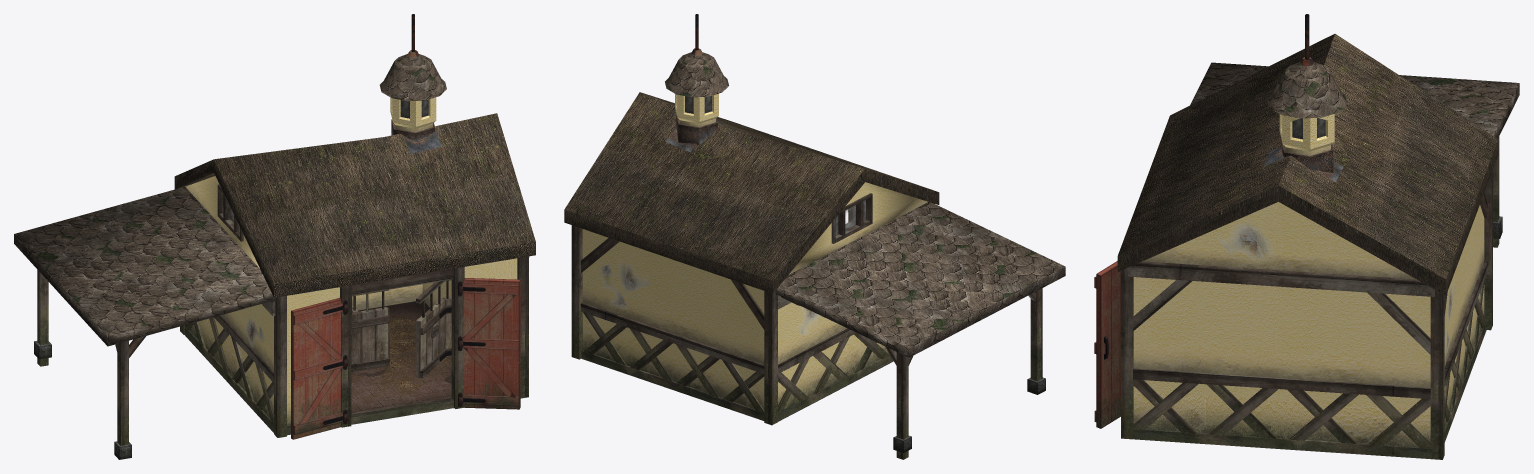
File: bldg_02_timber_barn.glb
3 views of the same model, side by side, from view 1: azimuth 30°, elevation 25°; view 2: azimuth 150°, elevation 25°; view 3: azimuth 270°, elevation 25° (orthographic). The views are drawn at different scales.
Parts seen in each view (by area): view 1: TimberBarn; view 2: TimberBarn; view 3: TimberBarn.
Part boxes in pixels (bbox=[...]): TimberBarn: bbox=[14, 14, 535, 459]; TimberBarn: bbox=[564, 14, 1065, 459]; TimberBarn: bbox=[1094, 14, 1519, 459].
Size of the model in its own units: 7.53 by 5.72 by 5.43.
Materials: 11 (11 with a texture image).
